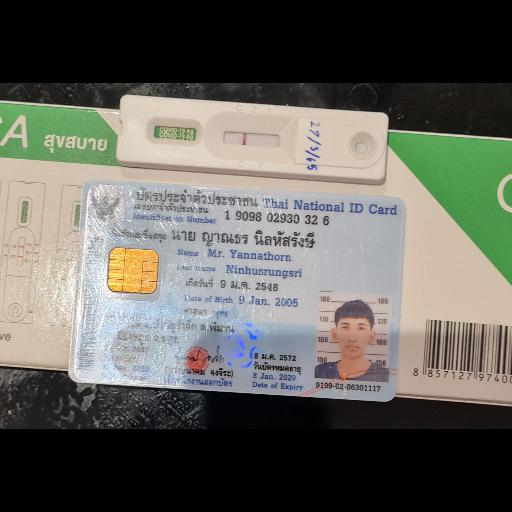Neg: (116, 92, 390, 180)
